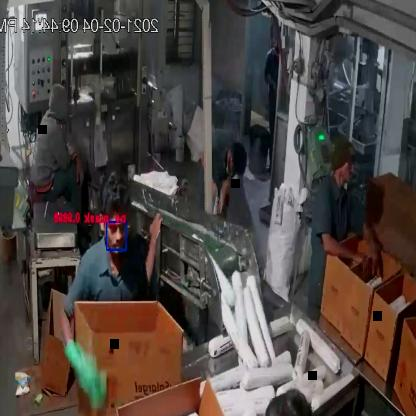glove: (63, 330, 110, 410)
no_glove: (140, 204, 168, 288), (355, 212, 386, 284), (318, 237, 370, 276), (216, 174, 236, 224), (71, 150, 89, 190)
